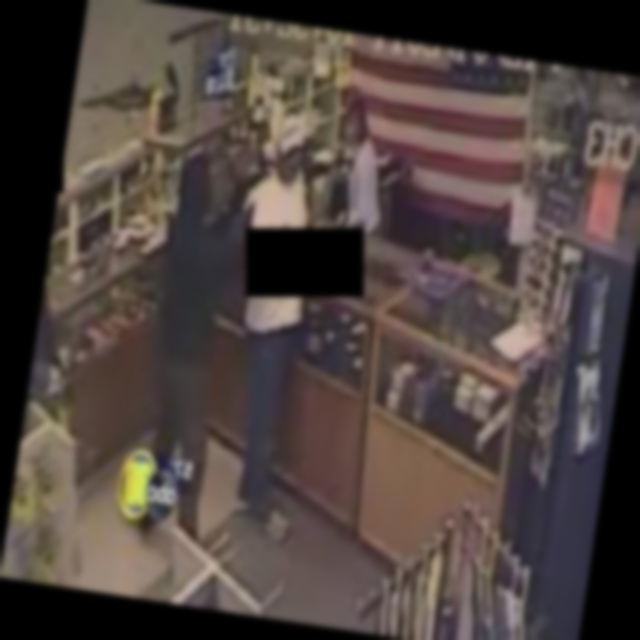gun: (219, 156, 272, 222)
